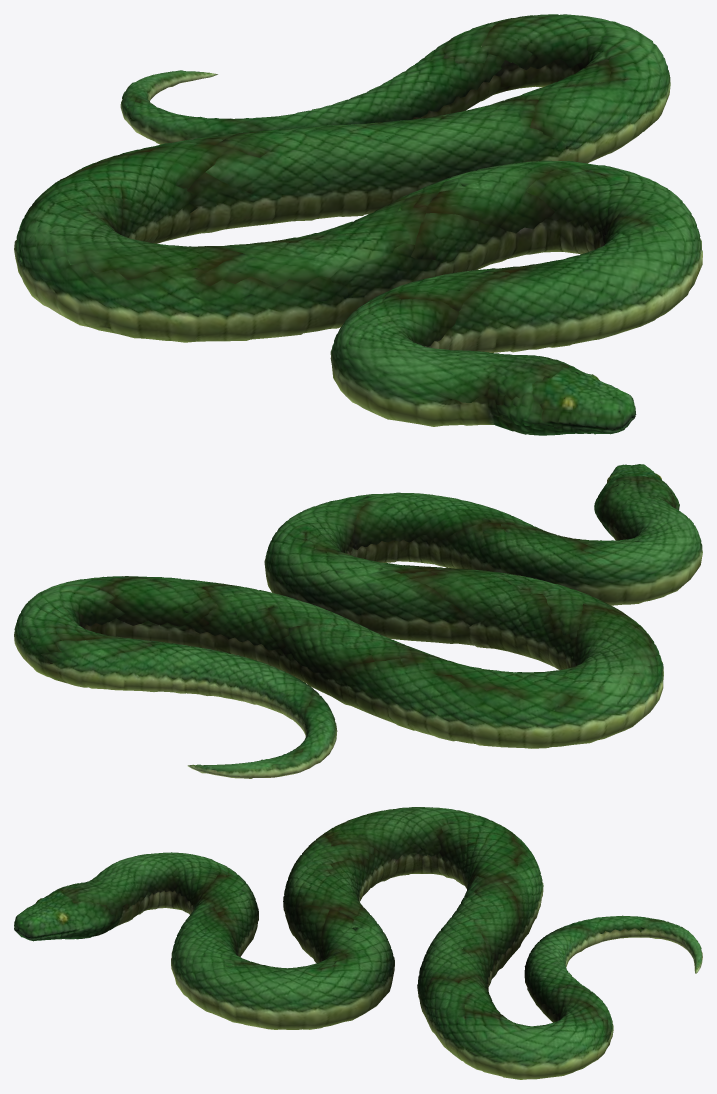
File: MZ4250 - Constrictor Snake_Green.glb
3 views of the same model, one above another, from view 1: azimuth 30°, elevation 25°; view 2: azimuth 150°, elevation 25°; view 3: azimuth 270°, elevation 25° (orthographic). The views are drawn at different scales.
Parts seen in each view (by area): view 1: ORGANIC BASE SPHERE.007; view 2: ORGANIC BASE SPHERE.007; view 3: ORGANIC BASE SPHERE.007.
Part boxes in pixels (left/top/right/bottom): ORGANIC BASE SPHERE.007: left=14, top=14, right=702, bottom=435; ORGANIC BASE SPHERE.007: left=14, top=464, right=702, bottom=778; ORGANIC BASE SPHERE.007: left=14, top=807, right=702, bottom=1079.
Bounding box in the file's own units: 1.05 × 0.1166 × 1.28.
Materials: 1 (1 with a texture image).
